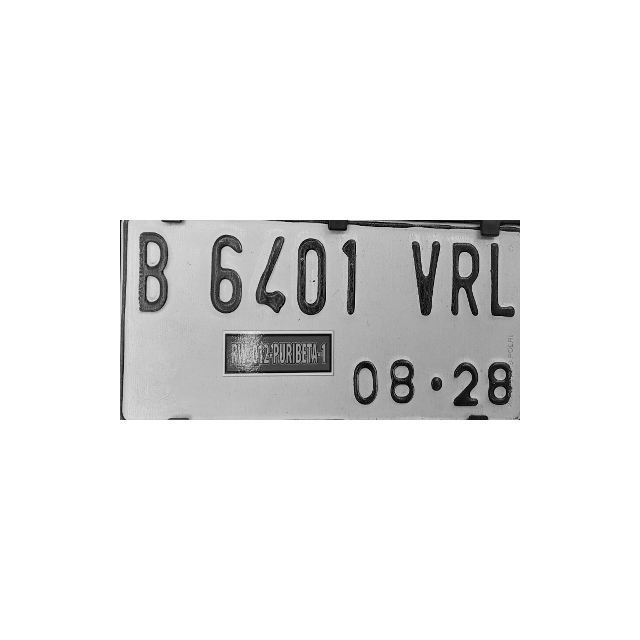contain: (132, 228, 176, 312), (205, 232, 249, 316), (248, 230, 292, 314), (290, 235, 334, 319), (336, 236, 380, 320), (401, 236, 445, 320), (443, 238, 487, 322), (481, 240, 516, 325)
